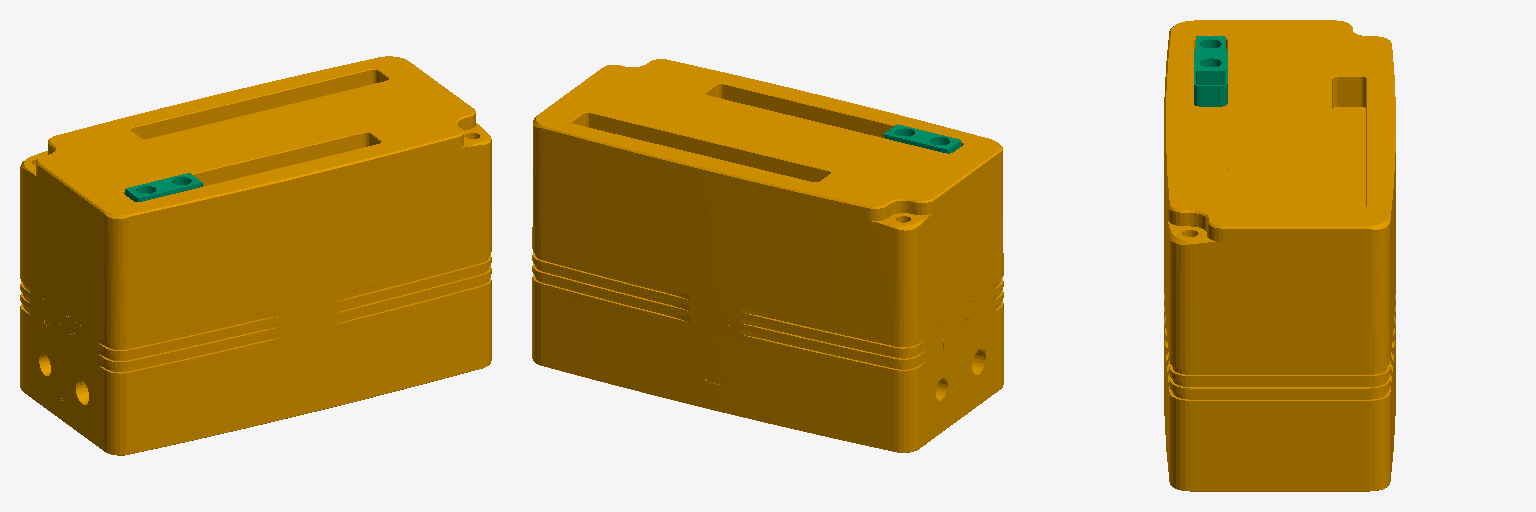
The robot description file, URDF, robot "wsg_300_120":
<?xml version="1.0"?>
<robot name="wsg_300_120">

  <!-- Base -->
  <link name="base_link">
    <visual>
      <origin xyz="0 0 0" rpy="0 0 0"/>
      <geometry>
        <mesh filename="package://wpg_300_120_description/meshes/base.stl" scale="0.001 0.001 0.001"/>
      </geometry>
    </visual>
    <collision>
      <origin xyz="0 0 0" rpy="0 0 0"/>
      <geometry>
        <mesh filename="package://wpg_300_120_description/meshes/base.stl" scale="0.001 0.001 0.001"/>
      </geometry>
    </collision>
    <inertial>
      <origin xyz="0 0 0"/>
      <mass value="0.5"/>
      <inertia ixx="0.001" ixy="0" ixz="0" iyy="0.001" iyz="0" izz="0.001"/>
    </inertial>
  </link>

  <!-- Left Finger -->
  <link name="left_finger">
    <visual>
      <origin xyz="0 0 0" rpy="0 0 0"/>
      <geometry>
        <mesh filename="package://wpg_300_120_description/meshes/left_finger.stl" scale="0.001 0.001 0.001"/>
      </geometry>
    </visual>
    <collision>
      <origin xyz="0 0 0" rpy="0 0 0"/>
      <geometry>
        <mesh filename="package://wpg_300_120_description/meshes/left_finger.stl" scale="0.001 0.001 0.001"/>
      </geometry>
    </collision>
    <inertial>
      <origin xyz="0 0 0"/>
      <mass value="0.1"/>
      <inertia ixx="0.0001" ixy="0" ixz="0" iyy="0.0001" iyz="0" izz="0.0001"/>
    </inertial>
  </link>

  <!-- Right Finger -->
  <link name="right_finger">
    <visual>
      <origin xyz="0 0 0" rpy="0 0 0"/>
      <geometry>
        <mesh filename="package://wpg_300_120_description/meshes/right_finger.stl" scale="0.001 0.001 0.001"/>
      </geometry>
    </visual>
    <collision>
      <origin xyz="0 0 0" rpy="0 0 0"/>
      <geometry>
        <mesh filename="package://wpg_300_120_description/meshes/right_finger.stl" scale="0.001 0.001 0.001"/>
      </geometry>
    </collision>
    <inertial>
      <origin xyz="0 0 0"/>
      <mass value="0.1"/>
      <inertia ixx="0.0001" ixy="0" ixz="0" iyy="0.0001" iyz="0" izz="0.0001"/>
    </inertial>
  </link>

  <!-- Left finger joint -->
  <joint name="left_finger_joint" type="prismatic">
    <parent link="base_link"/>
    <child link="left_finger"/>
    <origin xyz="0.042 0.0185 0.069" rpy="1.5708 0 -1.5708"/>
    <axis xyz="0 0 1"/>
    <limit lower="0" upper="0.06" effort="5" velocity="0.05"/>
  </joint>

  <!-- Right finger joint -->
  <joint name="right_finger_joint" type="prismatic">
    <parent link="base_link"/>
    <child link="right_finger"/>
    <origin xyz="-0.042 -0.0185 0.069" rpy="1.5708 0 -1.5708"/>
    <axis xyz="0 0 1"/>
    <mimic joint="left_finger_joint" multiplier="-1.0"/>
    <limit lower="-0.06" upper="0.0" effort="5" velocity="0.05"/>
  </joint>

</robot>

--- What the picture shows (computed from the rendered views, not written in the file) ---
3 views of the same robot in one strip: view 1: azimuth 30°, elevation 25°; view 2: azimuth 150°, elevation 25°; view 3: azimuth 270°, elevation 25° (orthographic).
Robot: wsg_300_120 — 3 links, 2 joints (2 prismatic); root link base_link; default pose: all joints at 0.
Visible links, largest first — view 1: base_link, right_finger; view 2: base_link, right_finger; view 3: base_link, right_finger.
Link boxes in pixels (left/top/right/bottom): base_link: left=20, top=56, right=491, bottom=455; right_finger: left=125, top=173, right=202, bottom=201; base_link: left=532, top=59, right=1003, bottom=452; right_finger: left=884, top=124, right=960, bottom=153; base_link: left=1164, top=20, right=1395, bottom=491; right_finger: left=1194, top=36, right=1227, bottom=106.
Bounding box of the posed robot: 0.131 × 0.062 × 0.079 m (x, y, z).
Meshes: 3 distinct files referenced, 2 mesh visuals loaded (2 binary STL); not drawn: 1 (reference not matched to a file when rendering).
